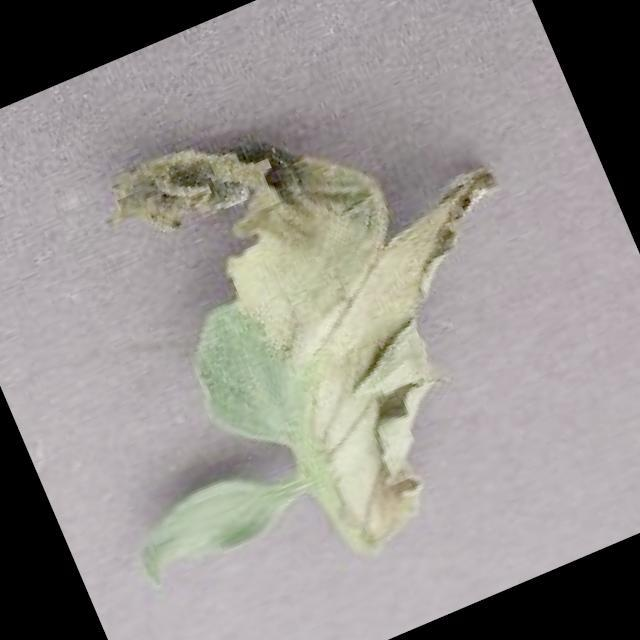Tomato healthy leaf: (118, 448, 316, 595)
Tomato late blight leaf: (85, 33, 602, 590)
